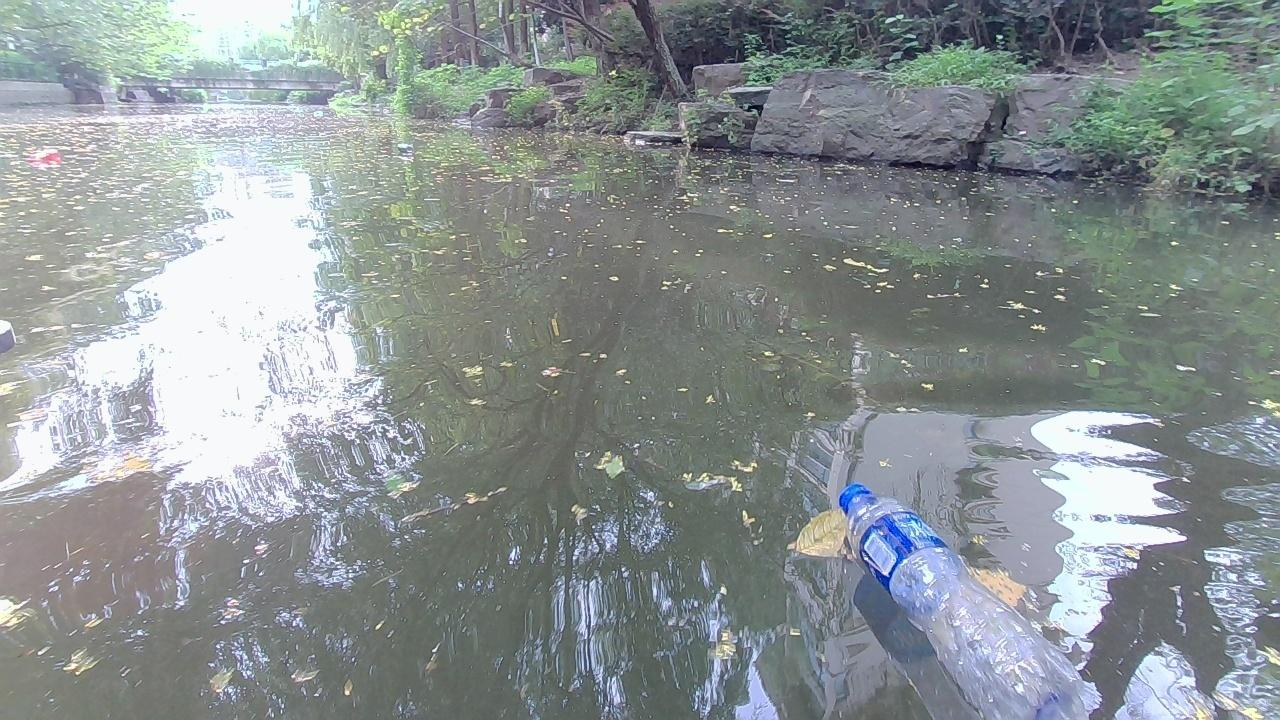bottle: (831, 481, 1093, 713), (27, 145, 59, 162), (396, 141, 414, 154), (310, 109, 322, 117)
